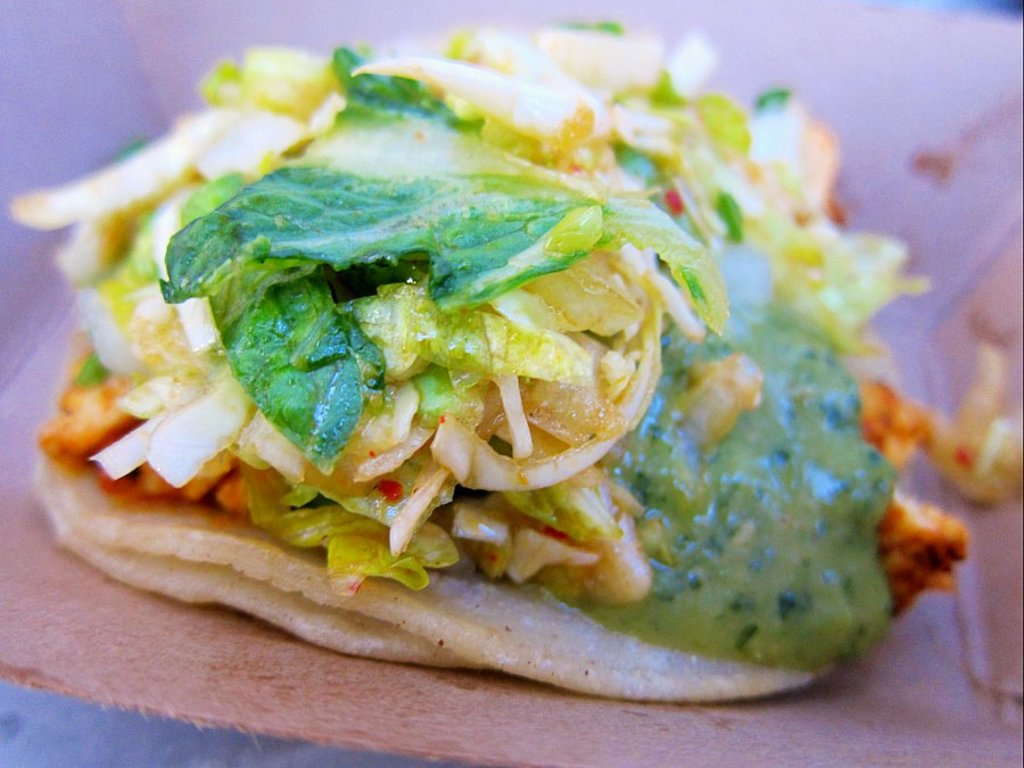Cabbage: (11, 18, 933, 593)
